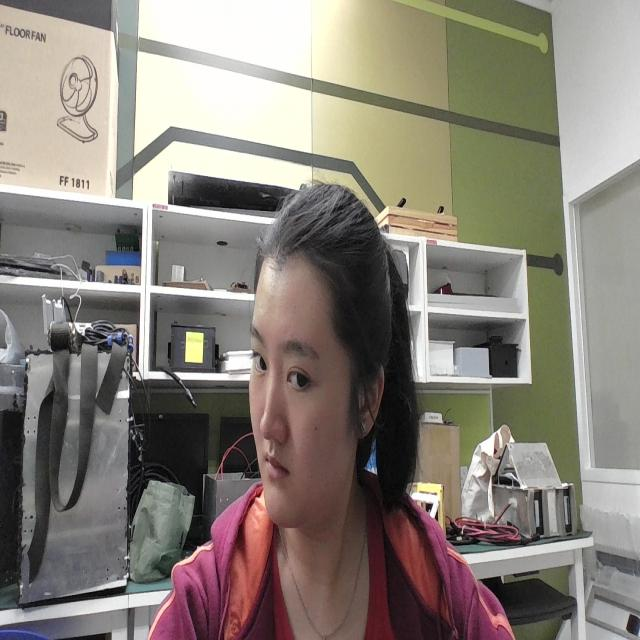Without Helmet: (234, 172, 434, 566)
